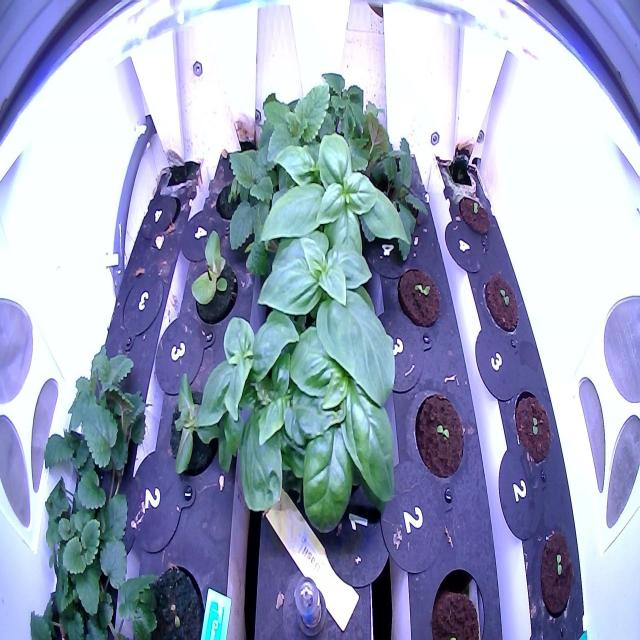empty_pod: (118, 262, 167, 358), (138, 184, 181, 247)
germination: (134, 557, 210, 636), (413, 386, 467, 482), (533, 526, 578, 624), (510, 378, 552, 471), (394, 261, 442, 332), (480, 266, 522, 337), (456, 186, 492, 243)
pod: (166, 346, 245, 490), (187, 223, 242, 334), (424, 556, 494, 636)
